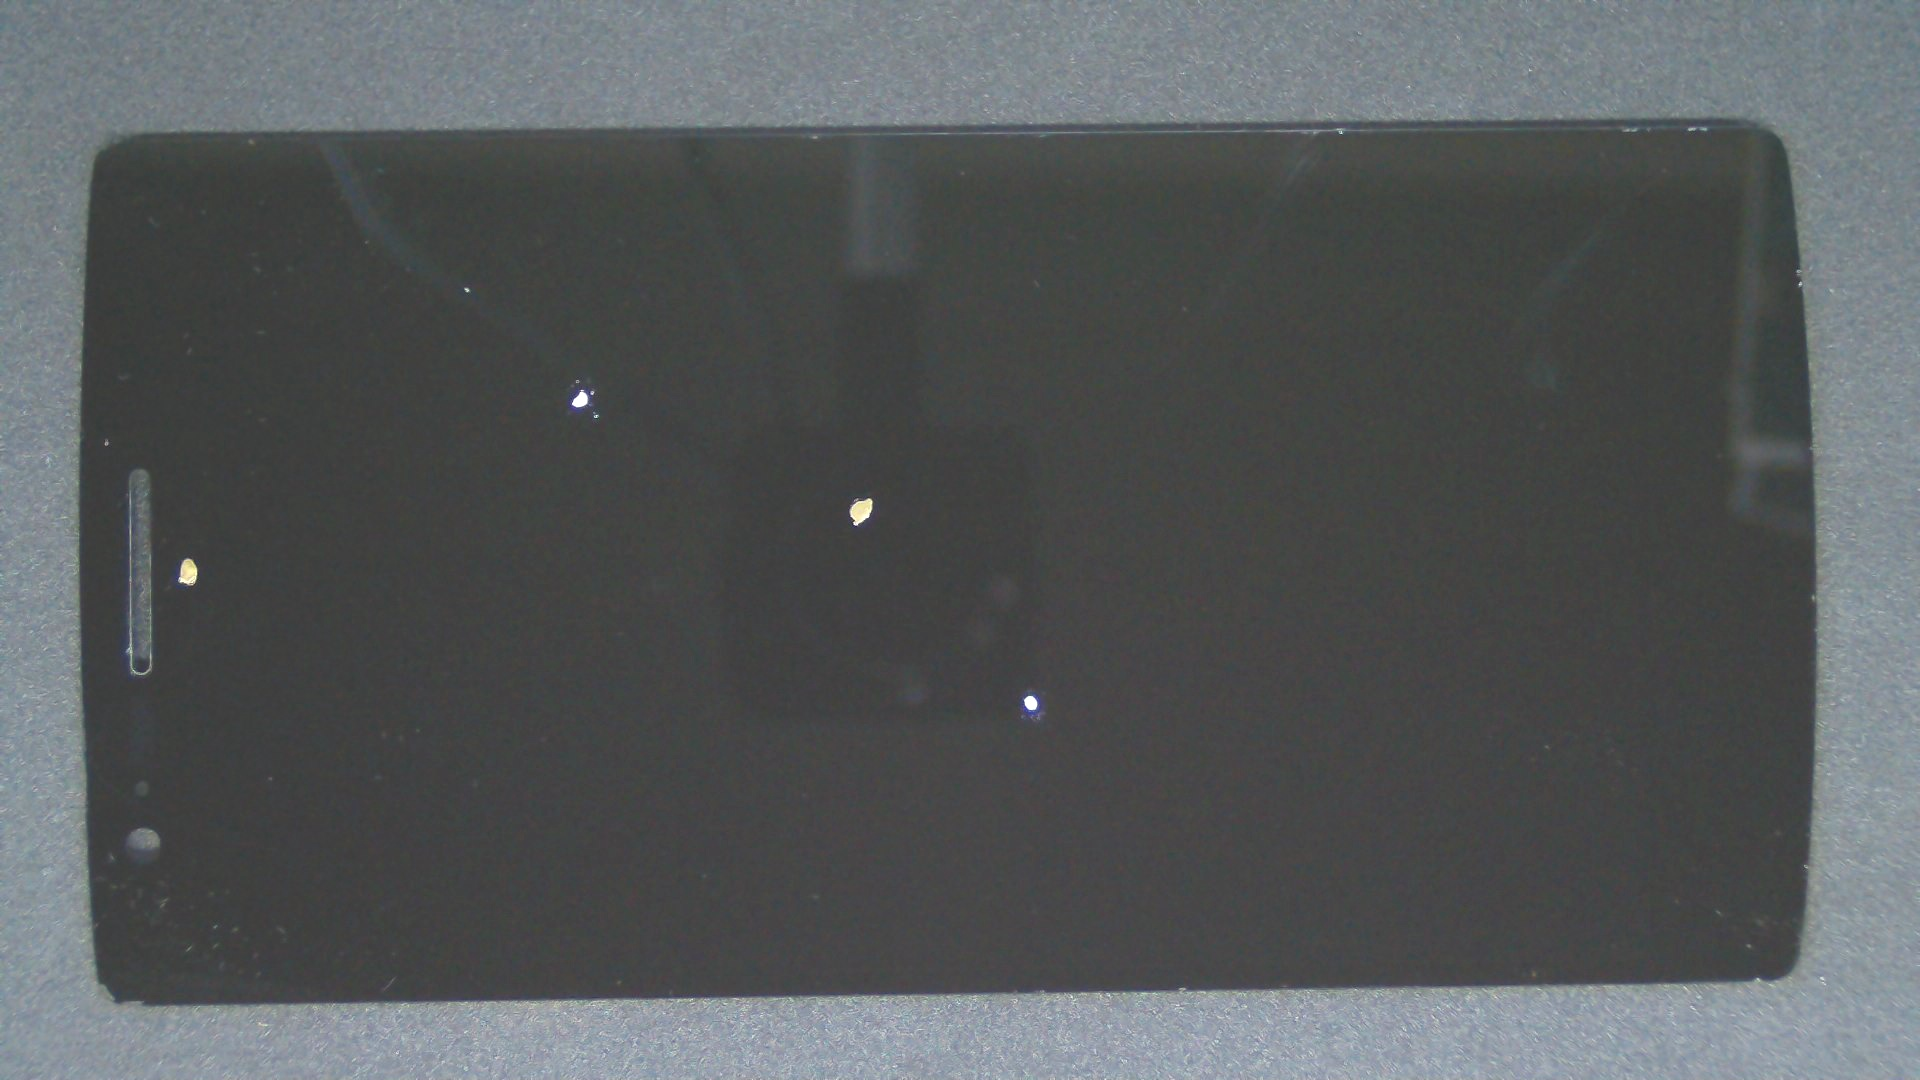oil: (516, 347, 1543, 1042), (433, 247, 1295, 740), (290, 193, 869, 582), (98, 278, 290, 836)
